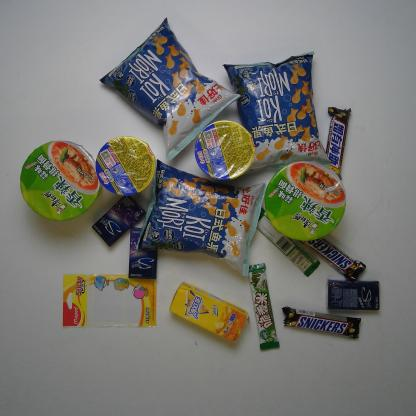Chocolate: (247, 202, 321, 278), (298, 223, 366, 282), (311, 106, 352, 186), (246, 260, 281, 353), (281, 305, 363, 340)
Drink: (168, 282, 249, 341)
Gum: (91, 195, 146, 248), (325, 277, 382, 312), (127, 227, 160, 280)
Instant Noodles: (19, 140, 101, 221), (263, 162, 346, 242), (194, 120, 255, 182), (95, 136, 155, 195)
Puffed Food: (100, 17, 242, 162), (135, 156, 266, 276), (222, 50, 332, 173)
Stationery: (60, 273, 158, 329)
